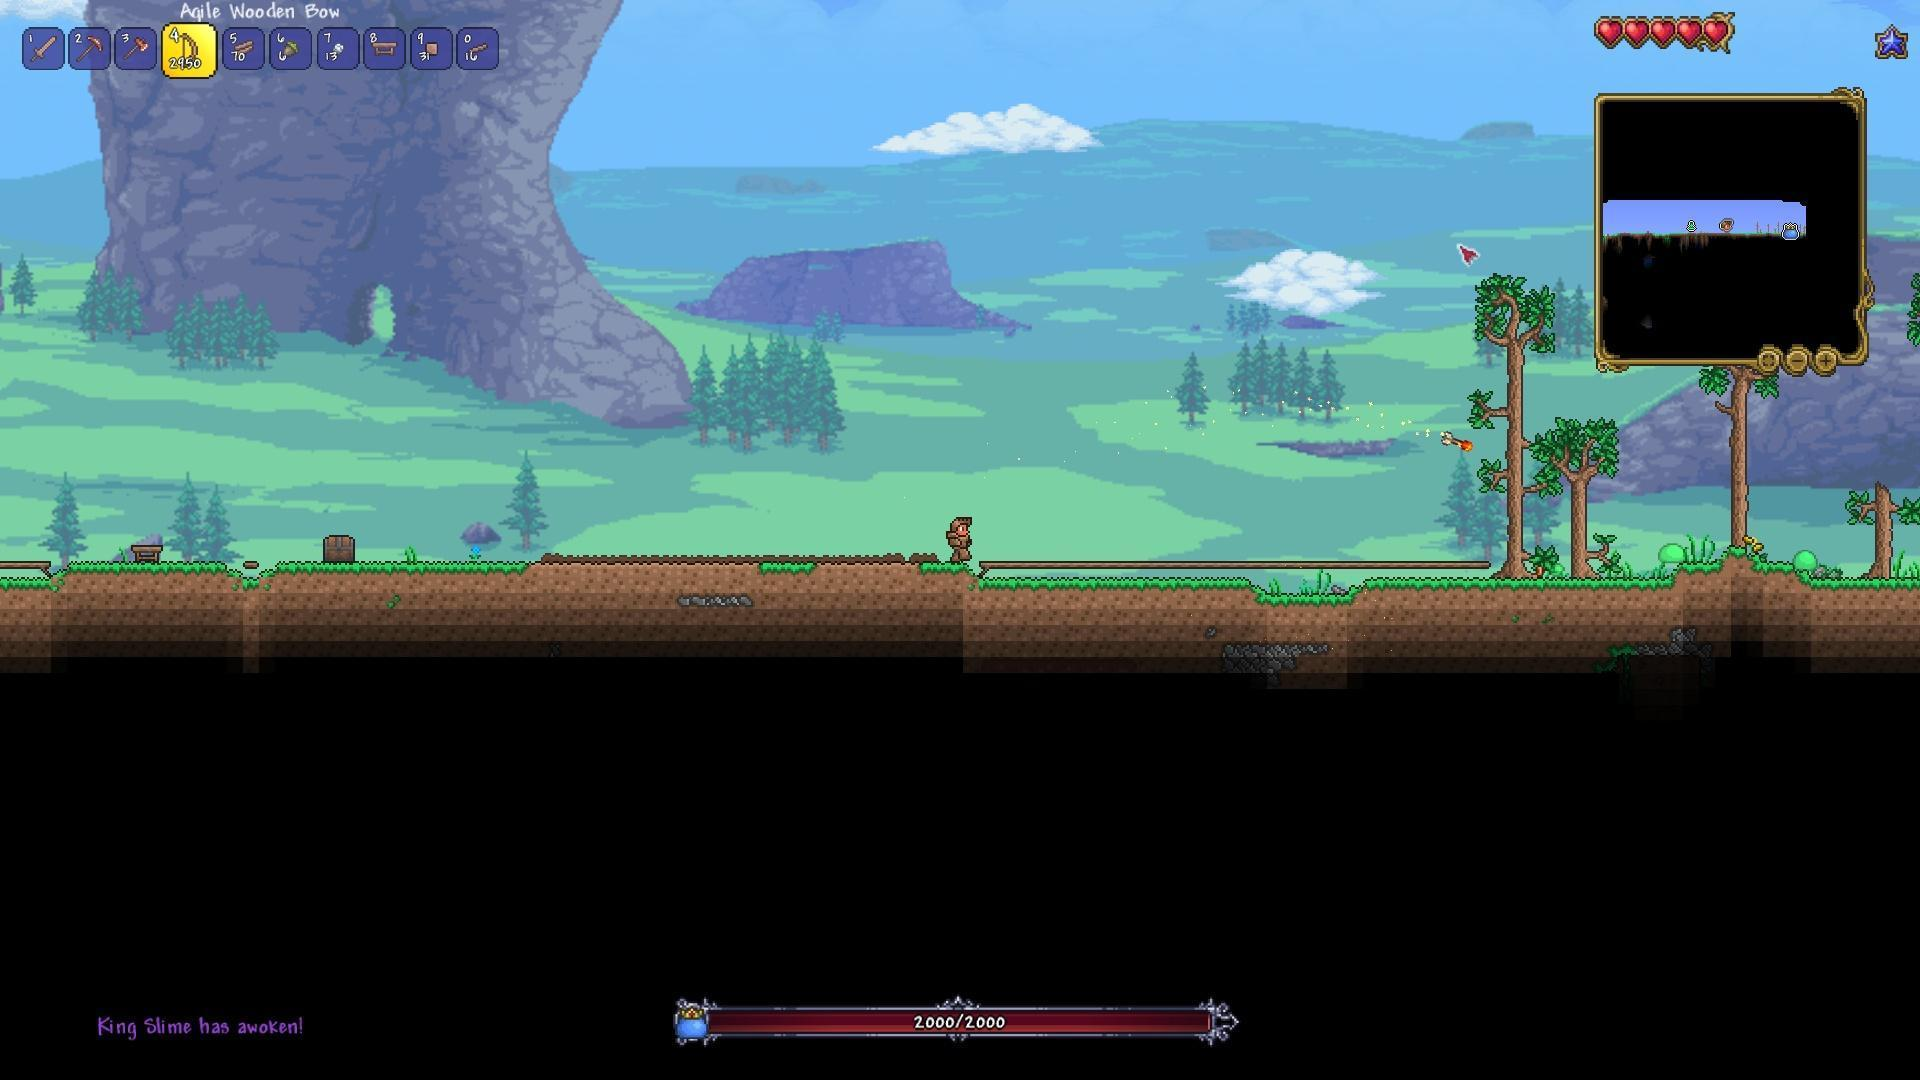slime: (1792, 543, 1817, 571), (1660, 541, 1685, 563)
wood: (227, 33, 258, 63)
workbench: (125, 538, 162, 563), (367, 34, 404, 59)
